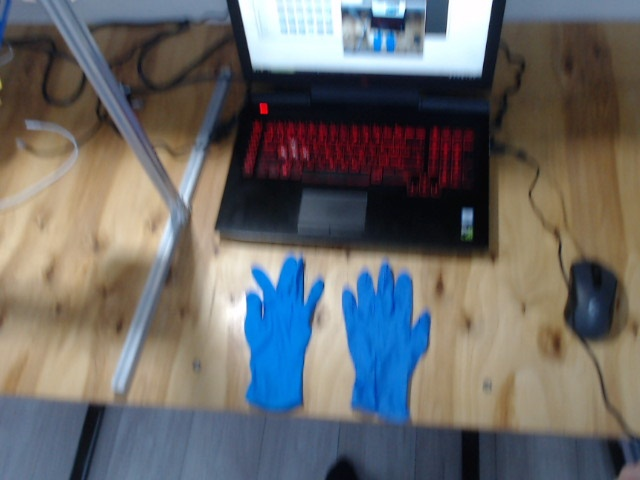medical_glove: (343, 262, 431, 421), (242, 257, 323, 411)
